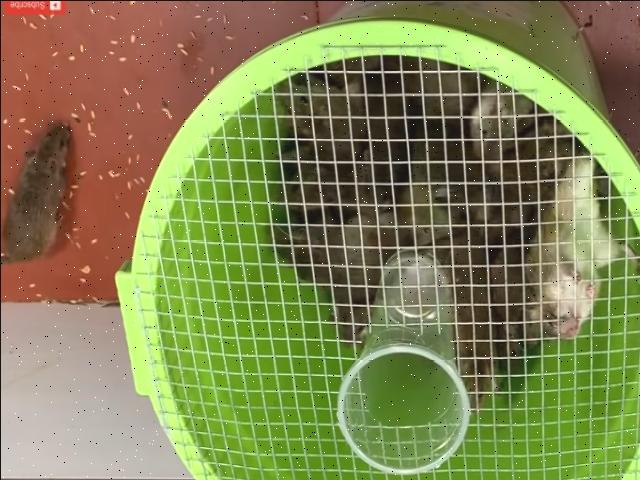Tikus: (526, 154, 638, 338), (0, 123, 67, 262)
